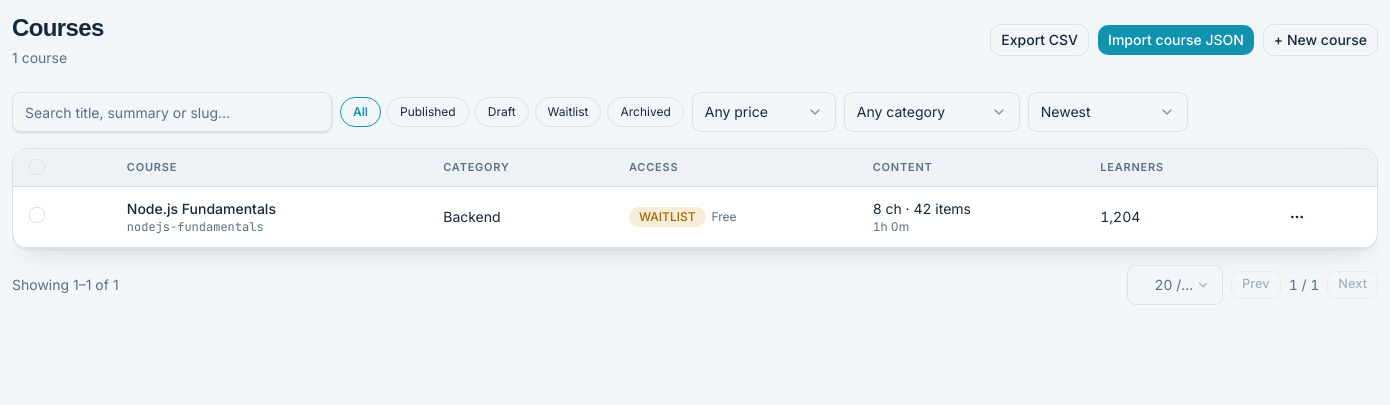
Test: CoursesTable › offers Unpublish for a waitlist course, which is already public
This screenshot has width=1390, height=405.
Step 1. Click the button named "Actions for Node.js Fundamentals" → (1297, 216), box [1281,200,1313,232]
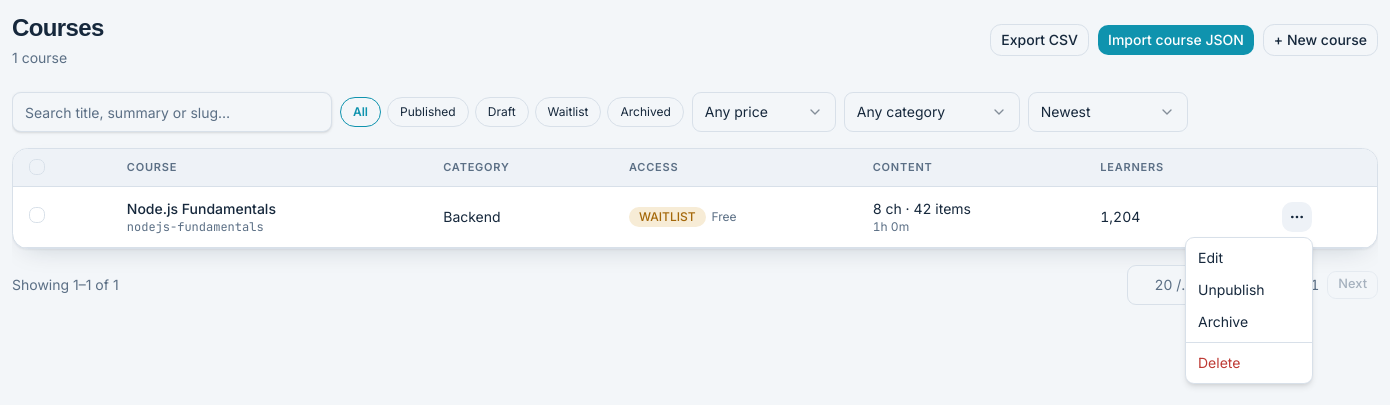
Now the menu item "Unpublish" is shown, box [1198,281,1265,298]
